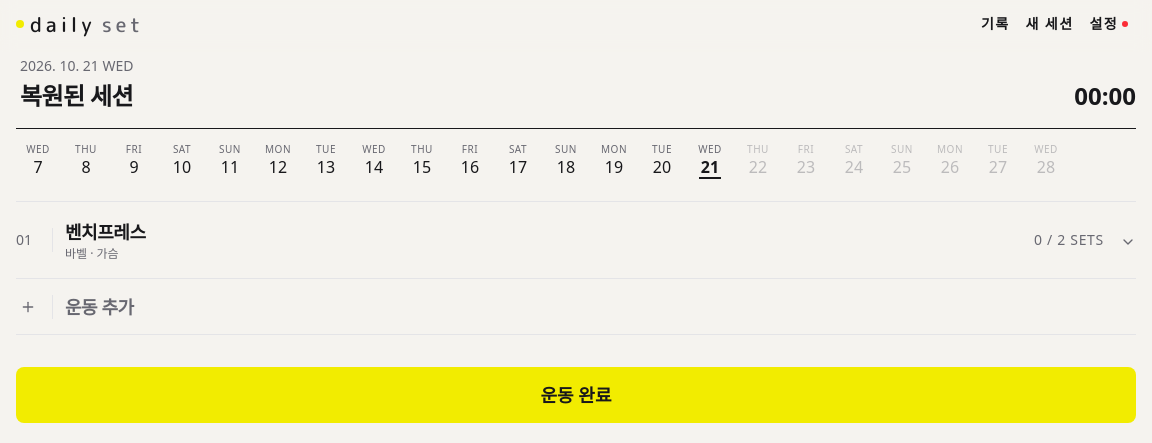
RootClient — 운동 완료 › 완료한 세트가 없으면 저장하지 않고 안내를 보여주며 세션을 유지한다
Step 1. Click the button "운동 완료" → (576, 395), box [16,367,1136,423]
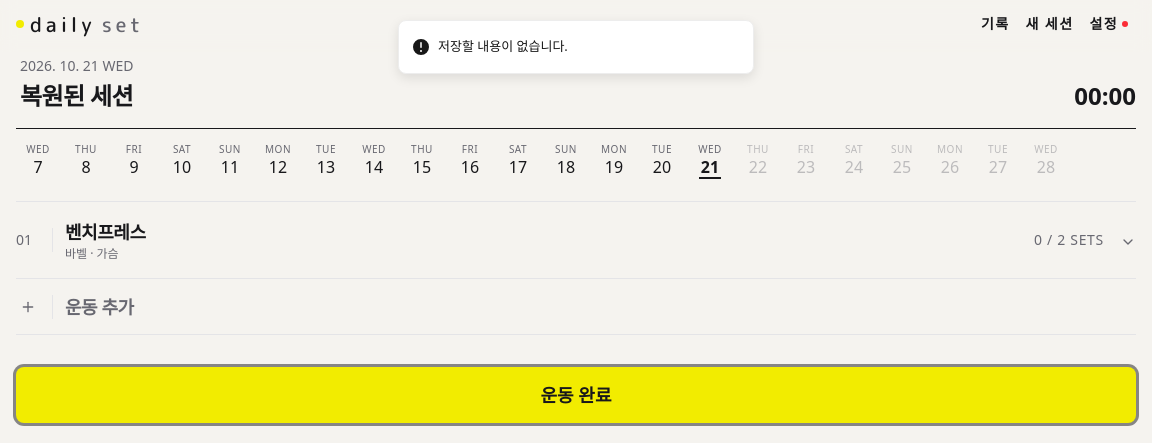
Check: the text "저장할 내용이 없습니다." is shown, box [438,37,568,56]
